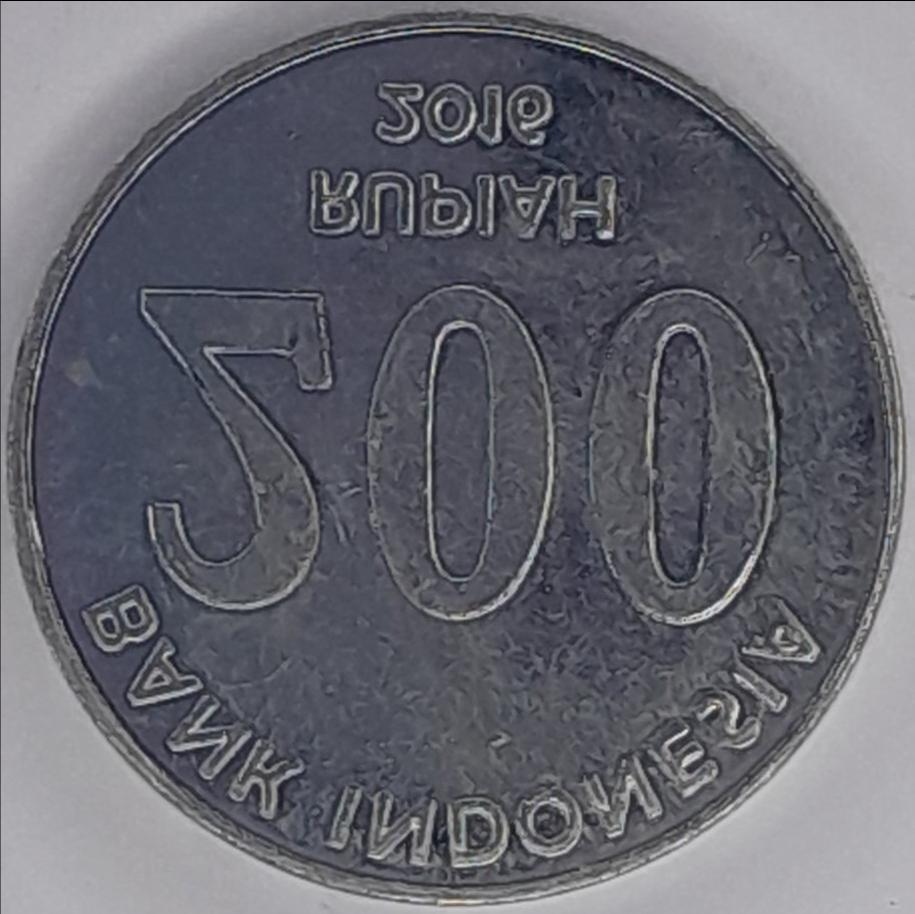coin_200_e2016: (0, 16, 915, 914)
